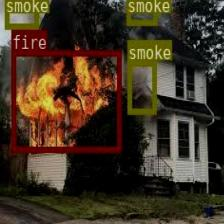fire: (11, 50, 120, 151)
smoke: (127, 60, 155, 114), (4, 0, 37, 28), (125, 0, 156, 24)
